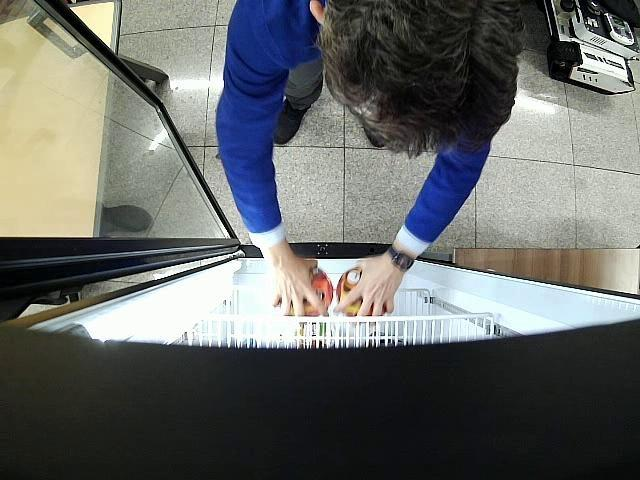05_nuguri_L: (289, 266, 334, 316), (336, 267, 374, 316)
